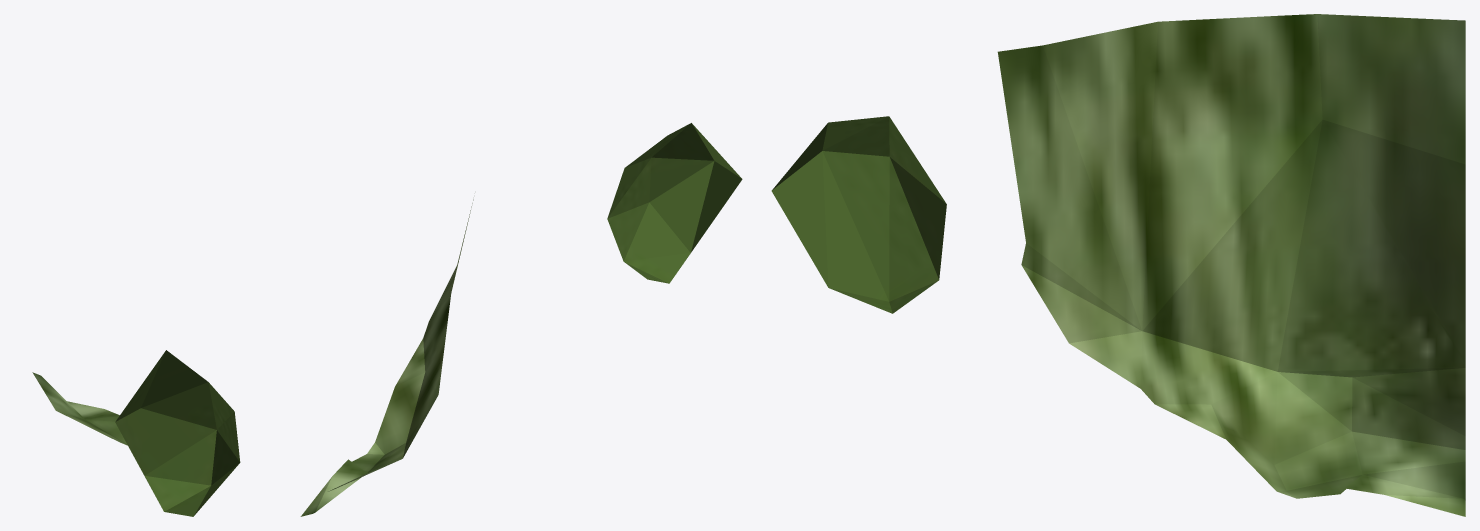
3 renders of one model, left to right at view 1: azimuth 30°, elevation 25°; view 2: azimuth 150°, elevation 25°; view 3: azimuth 270°, elevation 25°, orthographic. The views are drawn at different scales.
Size of the model in its own units: 0.3763 by 0.7033 by 0.951.
Materials: 1 (1 with a texture image).
